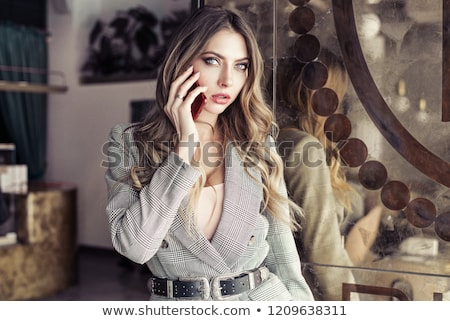phone: (172, 62, 207, 117)
talk: (162, 49, 254, 148)
